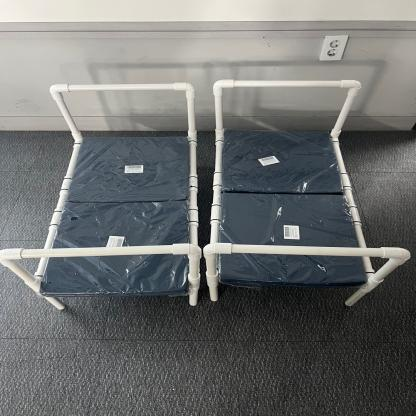np: (0, 67, 407, 330)
